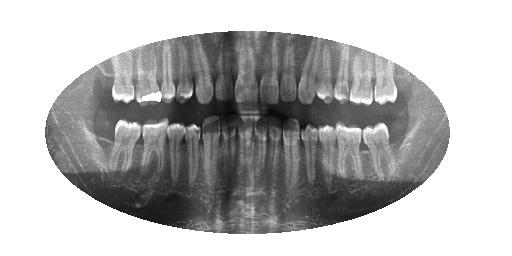i10decay: (216, 107, 240, 181)
i11healthy: (198, 107, 225, 189)
i12healthy: (181, 117, 204, 198)
i13healthy: (161, 118, 189, 190)
i14healthy: (138, 113, 170, 187)
i15healthy: (108, 113, 145, 194)
i2healthy: (358, 116, 397, 185)
i3healthy: (333, 117, 365, 193)
i4healthy: (316, 116, 341, 192)
i5healthy: (296, 112, 320, 193)
i6decay: (278, 109, 301, 200)
i7decay: (262, 107, 287, 206)
i8decay: (250, 110, 268, 185)
i9healthy: (233, 111, 257, 190)
u10healthy: (209, 32, 236, 106)
u11healthy: (189, 37, 216, 105)
u12healthy: (173, 38, 196, 109)
u13healthy: (157, 42, 179, 104)
u14healthy: (132, 49, 165, 109)
u15healthy: (111, 54, 136, 107)
u2healthy: (369, 50, 399, 110)
u3healthy: (347, 44, 373, 108)
u4healthy: (332, 42, 355, 109)
u5healthy: (311, 36, 336, 107)
u6healthy: (295, 36, 323, 108)
u7healthy: (275, 31, 301, 107)
u8healthy: (259, 33, 284, 108)
u9healthy: (233, 30, 262, 108)
